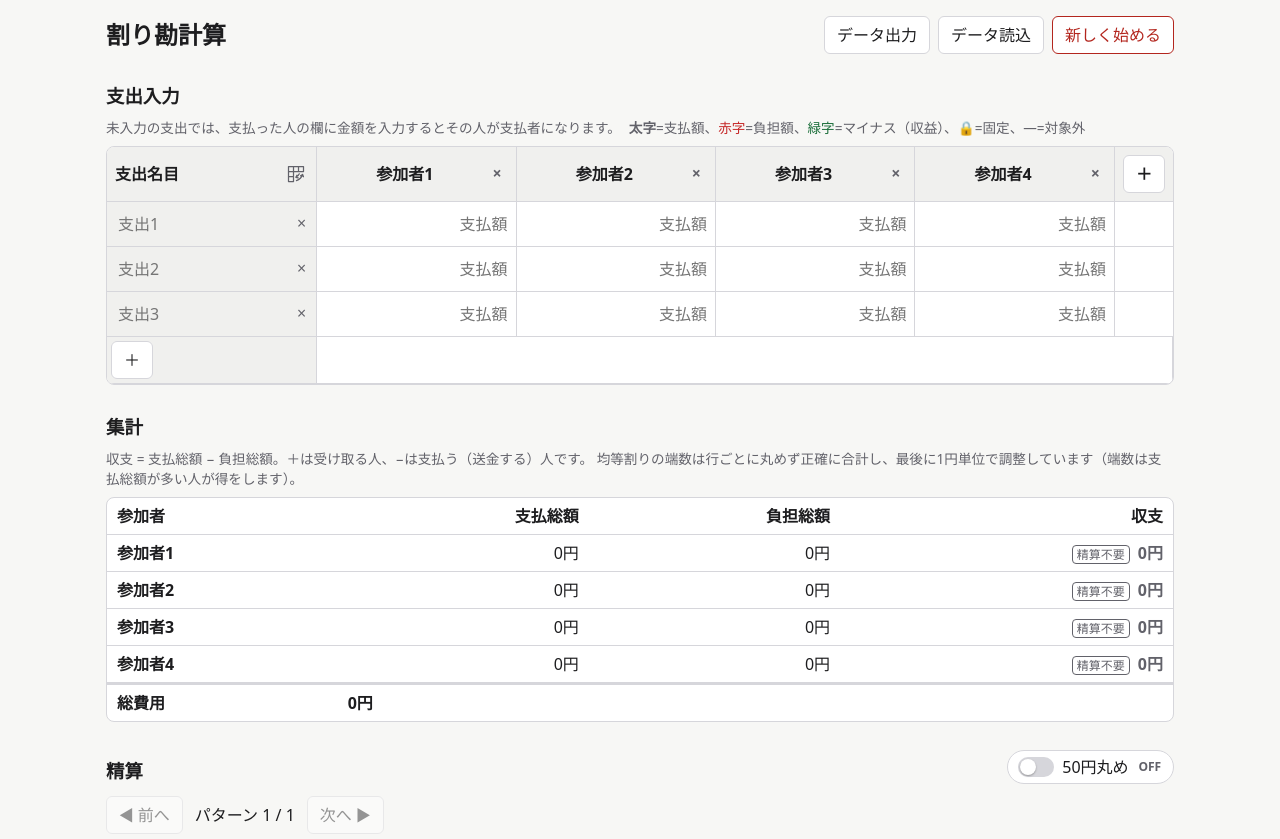
Scenario: App › 不正な金額入力は拒否
In the 1st field with placeholder "支払額": coordinates (416, 224) [317, 202, 516, 246], type "1.5"
Then press Enter
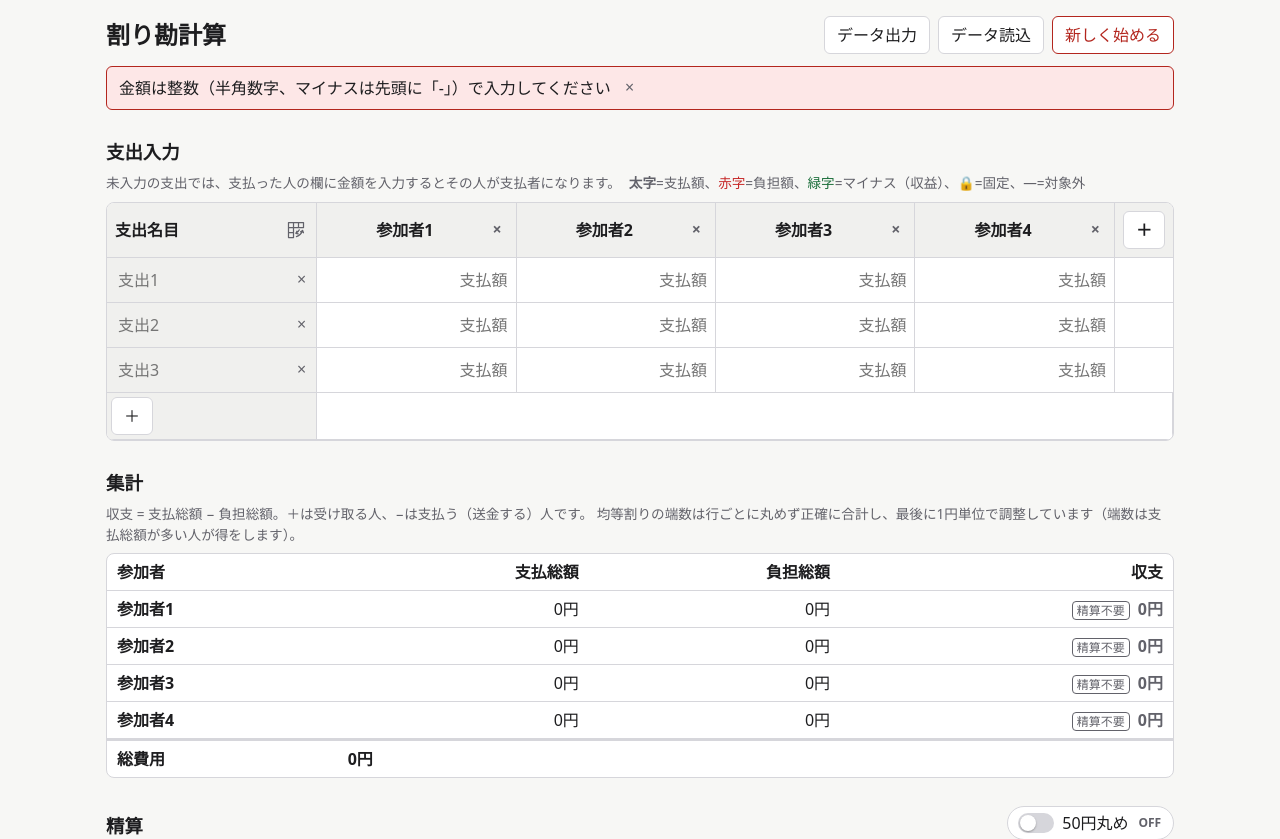
Check: the row "参加者1 0円 0円 精算不要 0円" is shown, box [107, 591, 1173, 628]
Check: the message shows "整数", box [106, 66, 1174, 110]
